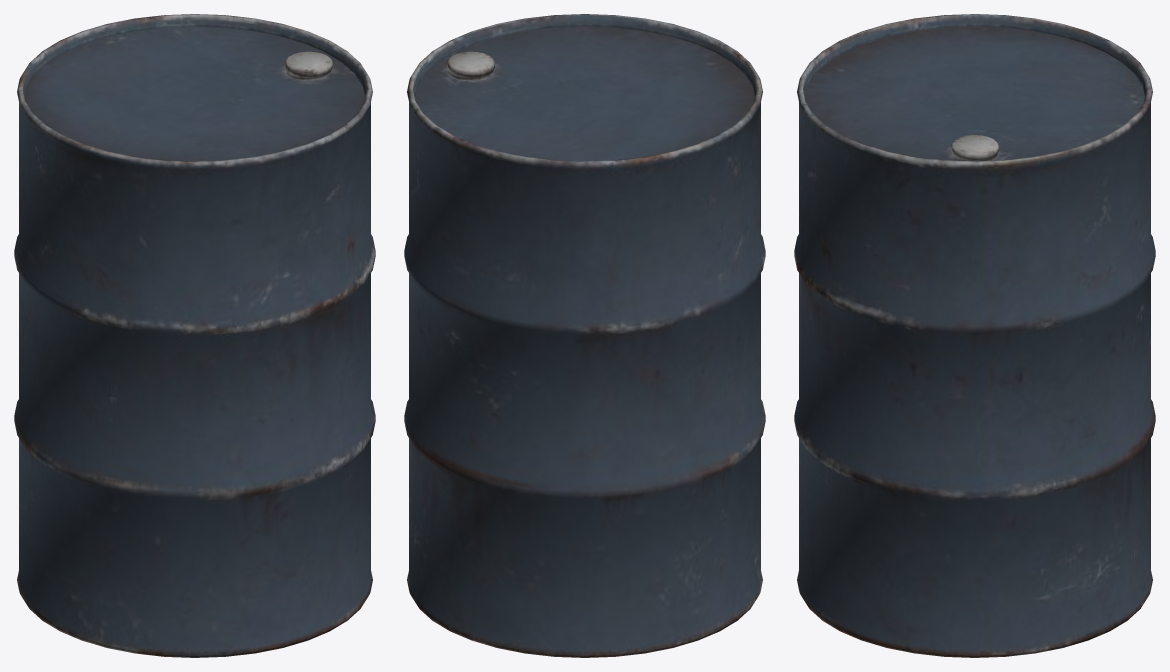
Rendered from b3-barrel.glb.
3 renders of one model, left to right at view 1: azimuth 30°, elevation 25°; view 2: azimuth 150°, elevation 25°; view 3: azimuth 270°, elevation 25°, orthographic.
Parts seen in each view (by area): view 1: Barrel; view 2: Barrel; view 3: Barrel.
Boxes of the visible parts, bbox=[...] form: Barrel: bbox=[14, 14, 375, 657]; Barrel: bbox=[404, 14, 765, 657]; Barrel: bbox=[794, 14, 1155, 657].
Size of the model in its own units: 0.5949 by 0.9 by 0.5949.
1 material, 1 textured.
